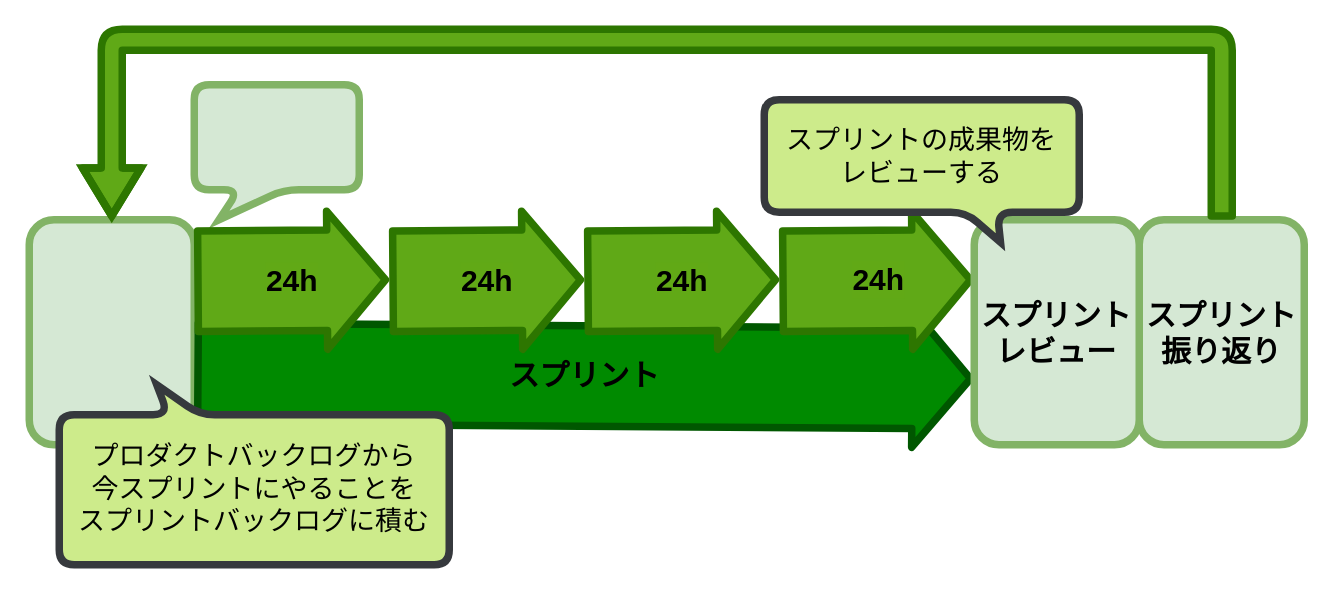
Some shapes in this 1334 by 594 pixel diagram are drawn without their labels. The shapes that lost their labels are listed below. From the top down, each one's centre as x and y in pixels, then its label:
the point at 276,151: デイリー スクラム
the point at 111,331: スプリント計画
